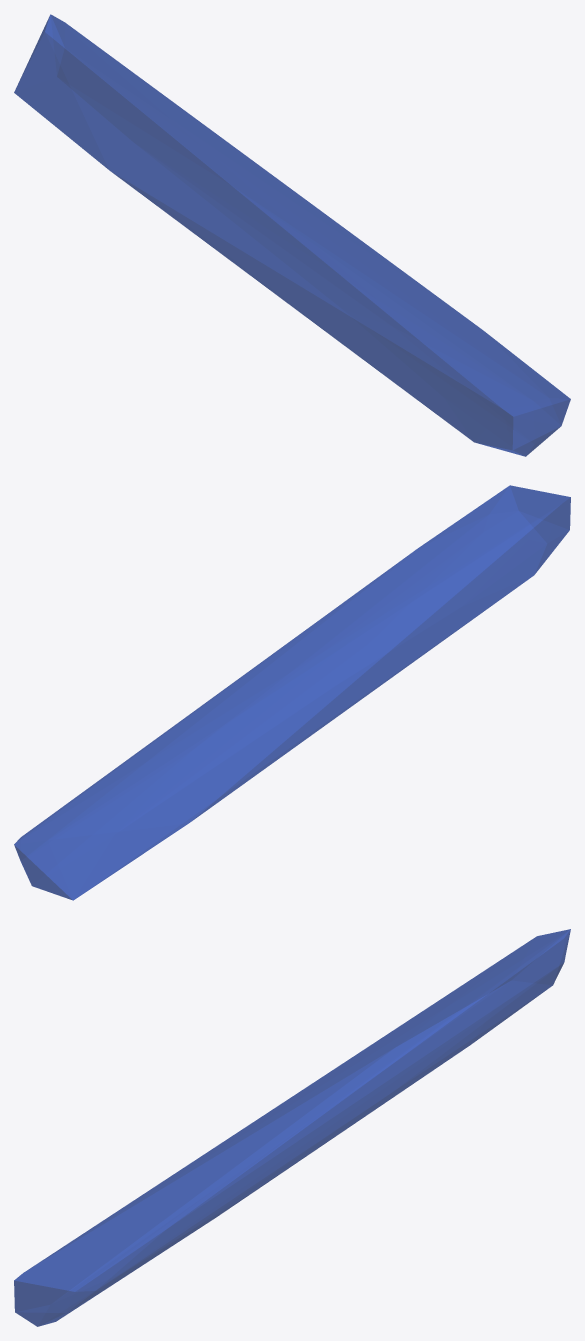
3 views of the same model, one above another, from view 1: azimuth 30°, elevation 25°; view 2: azimuth 150°, elevation 25°; view 3: azimuth 330°, elevation 25° (orthographic). The views are drawn at different scales.
Parts seen in each view (by area): view 1: Shape_IndexedFaceSet.019_Shape_IndexedFaceSet.18080; view 2: Shape_IndexedFaceSet.019_Shape_IndexedFaceSet.18080; view 3: Shape_IndexedFaceSet.019_Shape_IndexedFaceSet.18080.
Boxes of the visible parts, <box> form: Shape_IndexedFaceSet.019_Shape_IndexedFaceSet.18080: <box>14,14,570,456</box>; Shape_IndexedFaceSet.019_Shape_IndexedFaceSet.18080: <box>14,485,570,900</box>; Shape_IndexedFaceSet.019_Shape_IndexedFaceSet.18080: <box>14,929,570,1326</box>.
Bounding box in the file's own units: 0.0421 × 0.034 × 0.5705.
